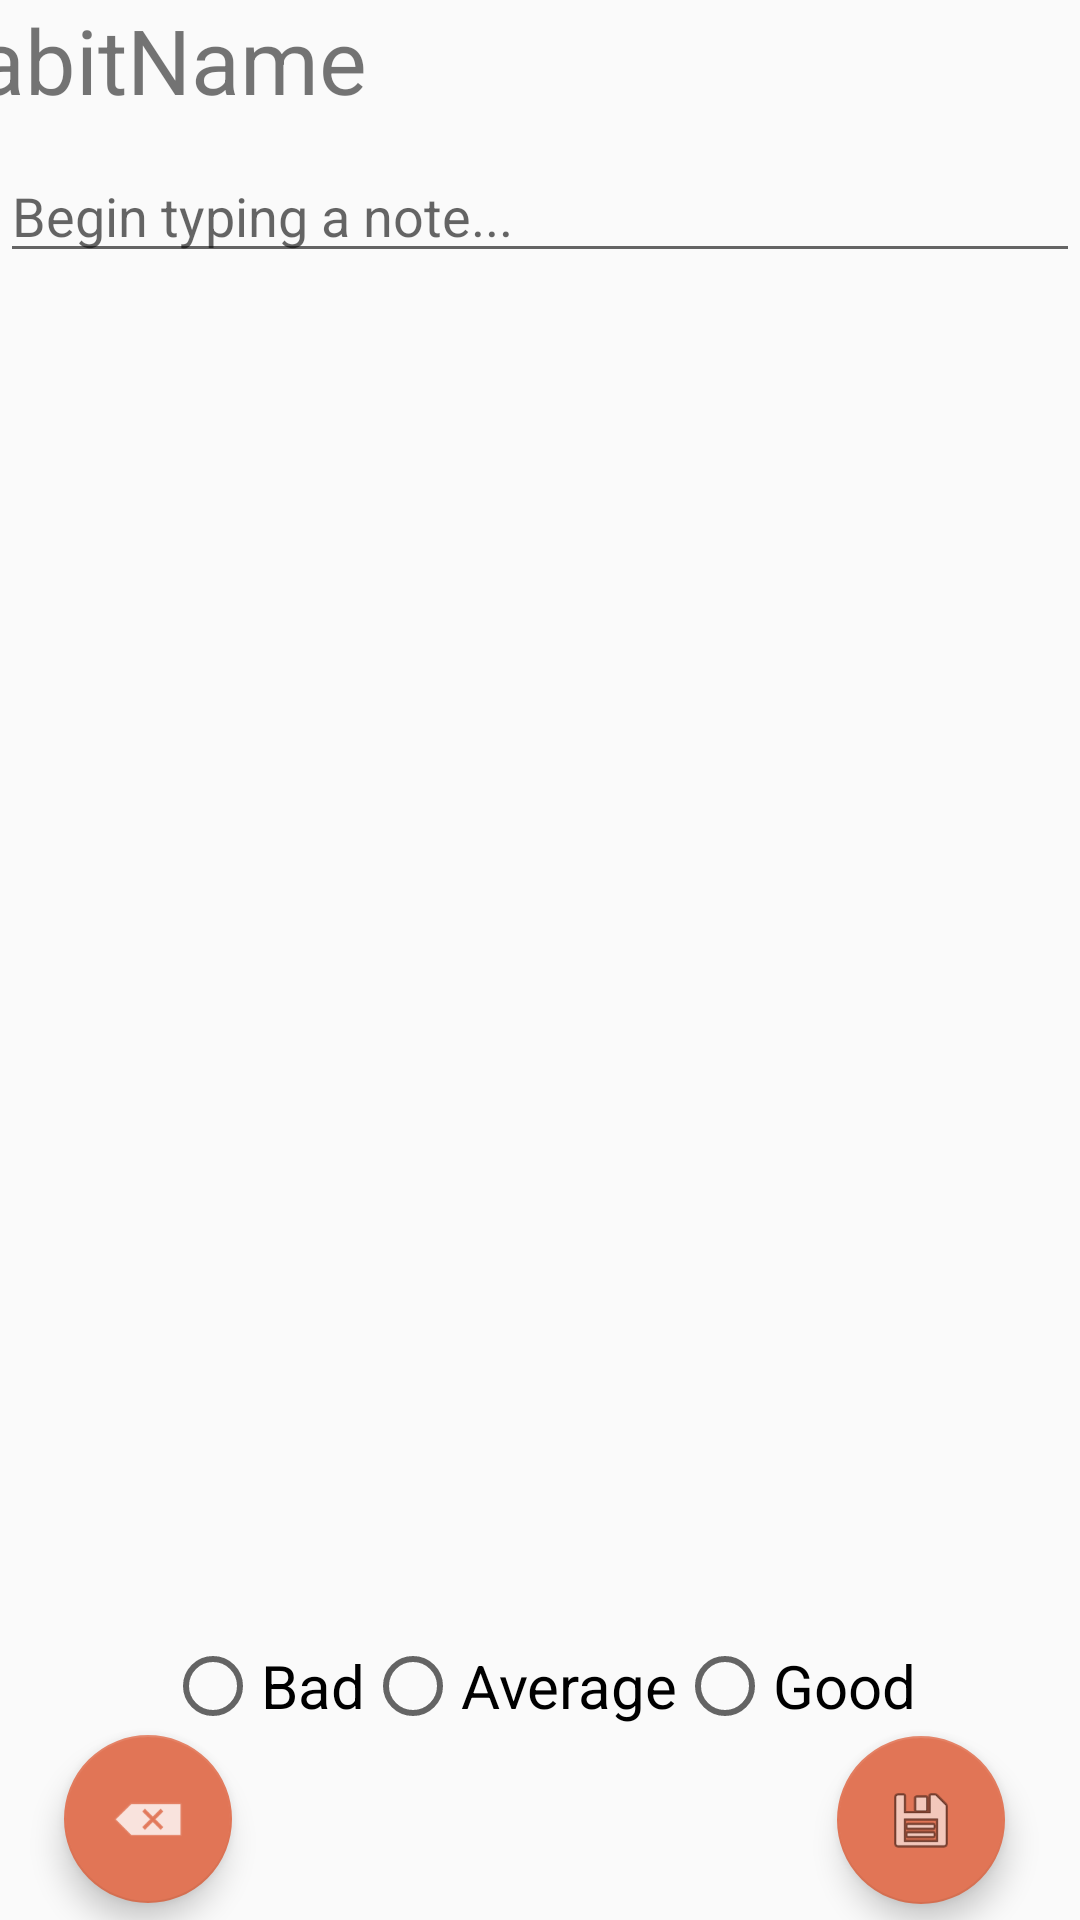

Screen size 1080px x 1920px. Icon name, then its center in pixels as [x,y]:
delete: [148,1819]
save: [921,1820]
